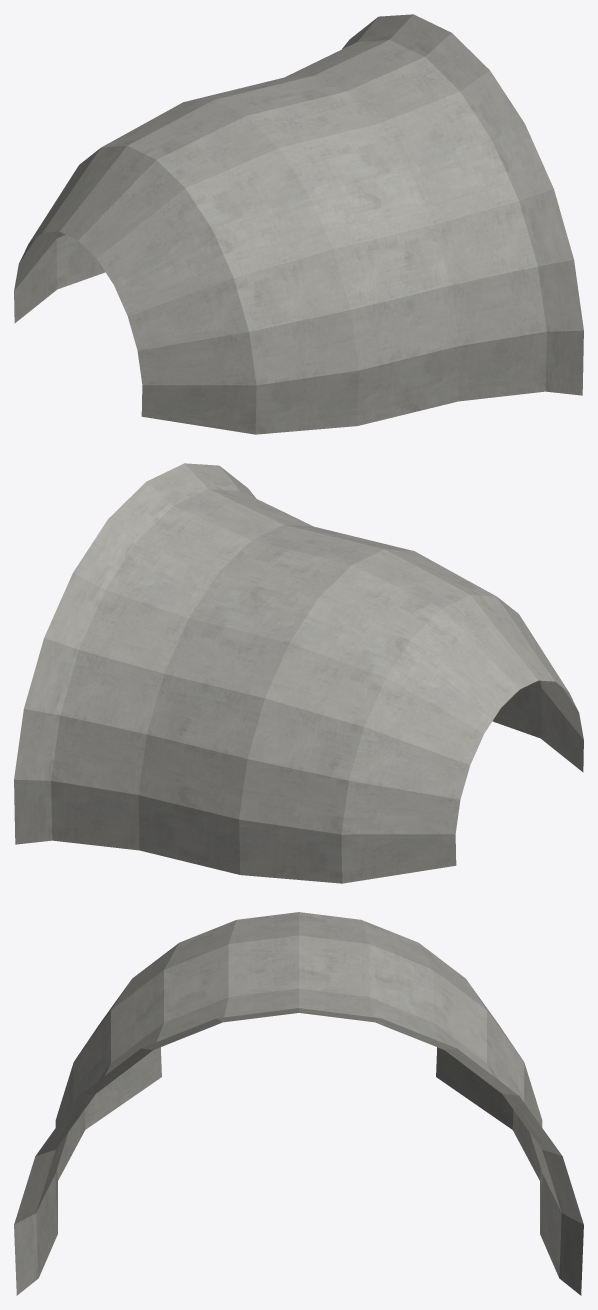
Rendered from eq_future_1_shoulder.glb.
The picture shows the model from 3 angles, top to bottom: view 1: azimuth 30°, elevation 25°; view 2: azimuth 150°, elevation 25°; view 3: azimuth 270°, elevation 25°; orthographic projection. The views are drawn at different scales.
Parts seen in each view (by area): view 1: eq_future_1_shoulder; view 2: eq_future_1_shoulder; view 3: eq_future_1_shoulder.
Part boxes in pixels (x1,y1,x2,y2): eq_future_1_shoulder: [14, 14, 583, 434]; eq_future_1_shoulder: [14, 463, 583, 883]; eq_future_1_shoulder: [14, 912, 583, 1295].
Size of the model in its own units: 0.167 by 0.1141 by 0.2047.
Materials: 1 (1 with a texture image).
